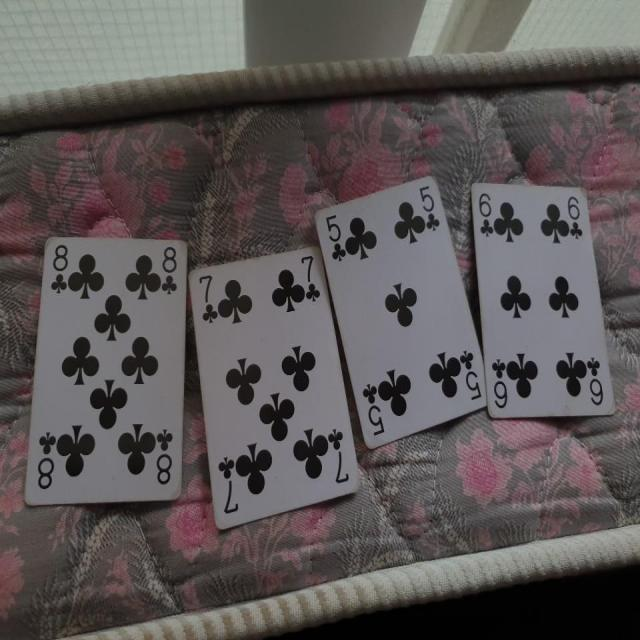5 Trefoils: (313, 174, 488, 449)
6 Trefoils: (469, 178, 616, 420)
7 Trefoils: (187, 244, 363, 532)
8 Trefoils: (25, 233, 190, 504)
